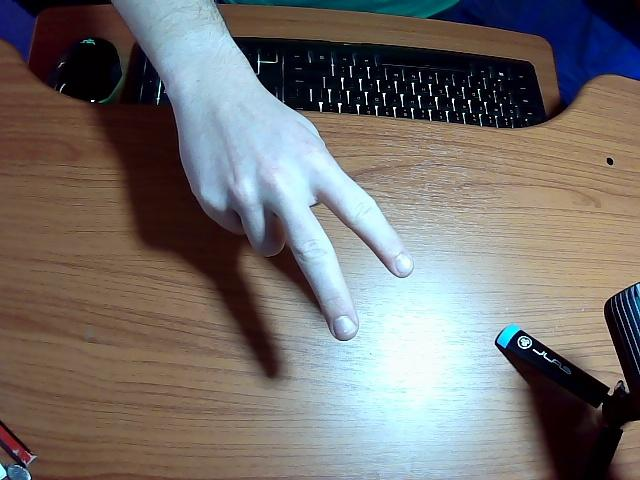scissors: (114, 0, 414, 340)
